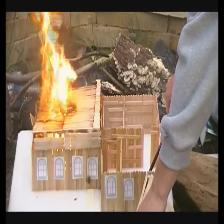fire: (38, 10, 72, 111)
